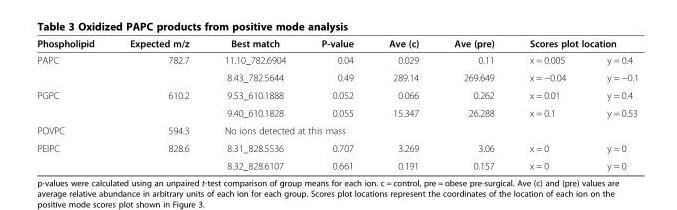table: (36, 37, 638, 171)
table column: (206, 37, 303, 171), (111, 37, 206, 171), (435, 37, 511, 171), (36, 37, 111, 171), (511, 37, 585, 171), (303, 37, 370, 171), (370, 37, 435, 171), (585, 37, 638, 171)
table column header: (36, 37, 638, 68)
table row: (36, 68, 638, 86), (36, 103, 638, 121), (36, 121, 638, 139), (36, 51, 638, 68), (36, 86, 638, 103), (36, 139, 638, 156), (36, 156, 638, 171), (36, 37, 638, 51)
table spanning cell: (206, 121, 435, 139), (206, 37, 303, 68), (111, 37, 206, 68), (36, 86, 111, 121), (36, 139, 111, 171), (435, 37, 511, 68), (36, 37, 111, 68), (303, 37, 370, 68), (370, 37, 435, 68), (511, 37, 638, 51)
